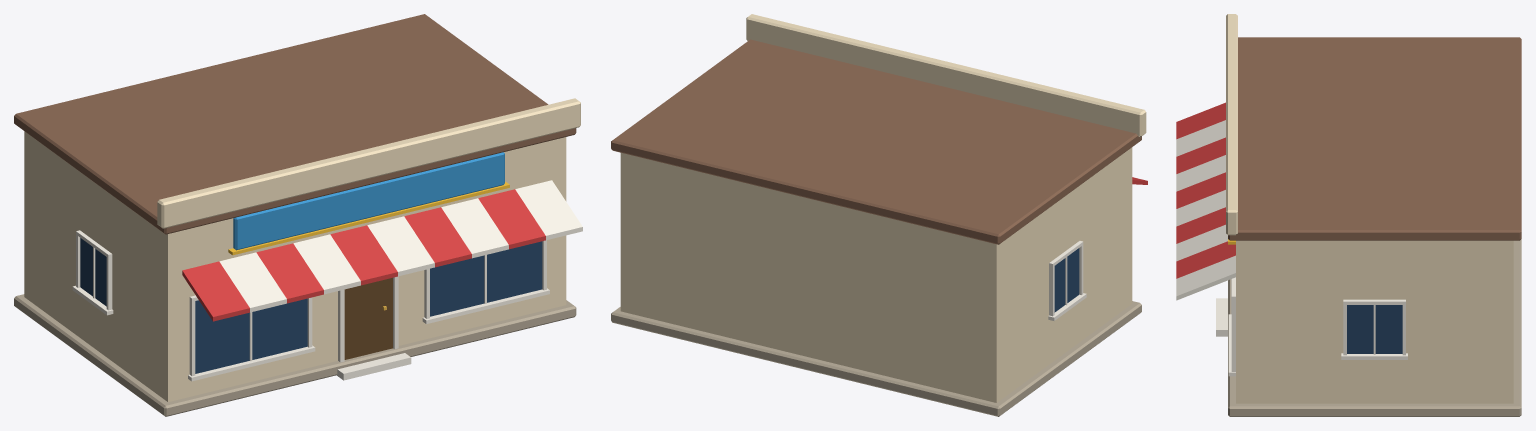
The model's file is shop.glb.
3 renders of one model, left to right at view 1: azimuth 30°, elevation 25°; view 2: azimuth 150°, elevation 25°; view 3: azimuth 270°, elevation 25°, orthographic. The views are drawn at different scales.
Parts seen in each view (by area): view 1: shop; view 2: shop; view 3: shop.
Part boxes in pixels (x1,y1,x2,y2): shop: [14, 14, 582, 416]; shop: [611, 14, 1147, 416]; shop: [1176, 14, 1521, 416].
Size of the model in its own units: 11.8 by 5.8 by 8.7.
